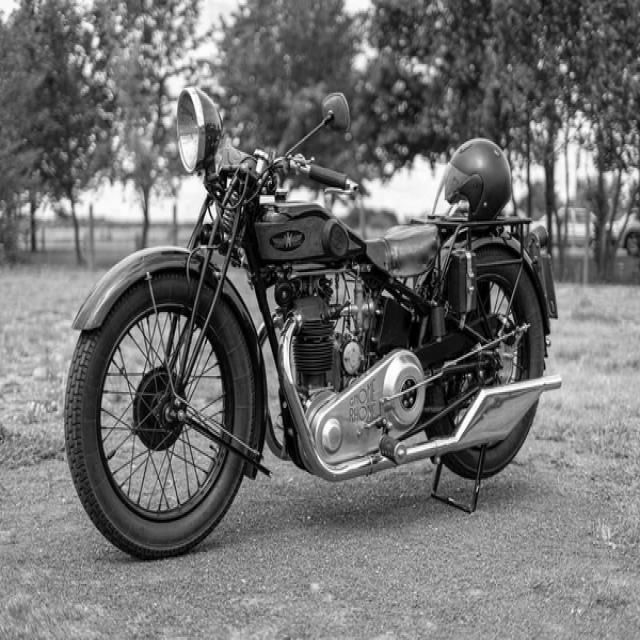Motorcycle: (65, 88, 562, 559)
